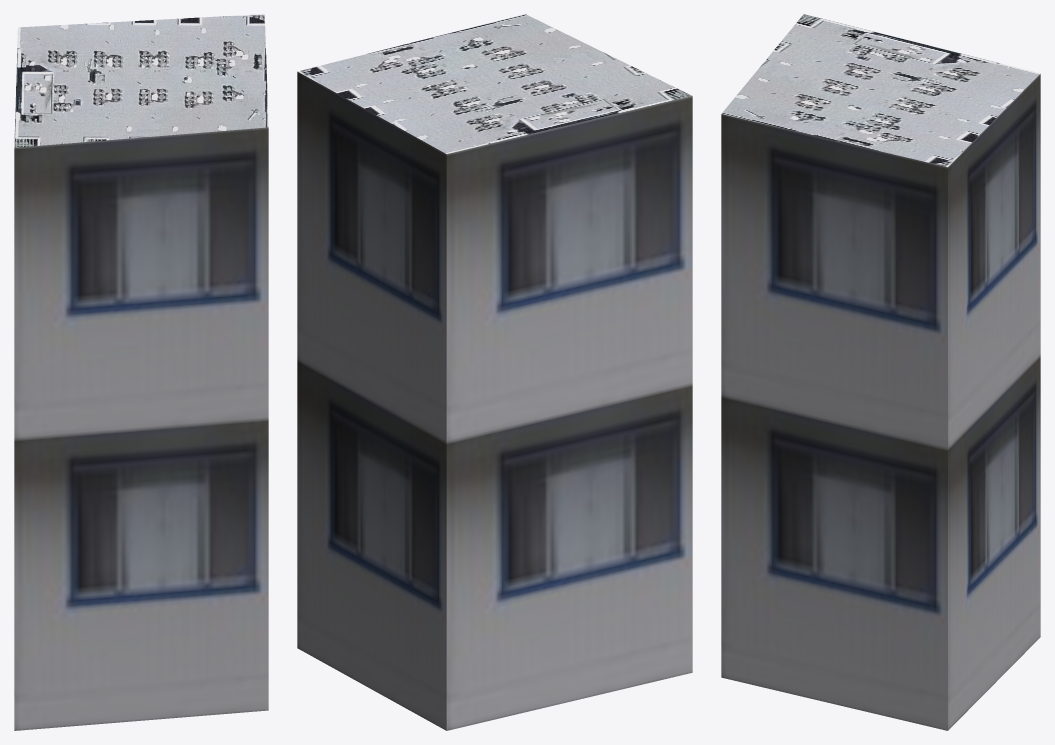
The model's file is ResTex__4585.fbx.
3 renders of one model, left to right at view 1: azimuth 30°, elevation 25°; view 2: azimuth 150°, elevation 25°; view 3: azimuth 270°, elevation 25°, orthographic. The views are drawn at different scales.
Visible parts, largest first — view 1: CityEngineMaterial_9_m, CityEngineMaterial_4_m; view 2: CityEngineMaterial_9_m, CityEngineMaterial_4_m; view 3: CityEngineMaterial_9_m, CityEngineMaterial_4_m.
Part boxes in pixels (box(x1,y1,x2,y2)): CityEngineMaterial_9_m: box(14, 127, 268, 730); CityEngineMaterial_4_m: box(14, 14, 268, 147); CityEngineMaterial_9_m: box(297, 71, 692, 730); CityEngineMaterial_4_m: box(297, 14, 691, 153); CityEngineMaterial_9_m: box(721, 74, 1040, 730); CityEngineMaterial_4_m: box(721, 14, 1040, 167).
Bounding box in the file's own units: 3.5 × 6 × 3.08.
2 materials, 2 textured.
